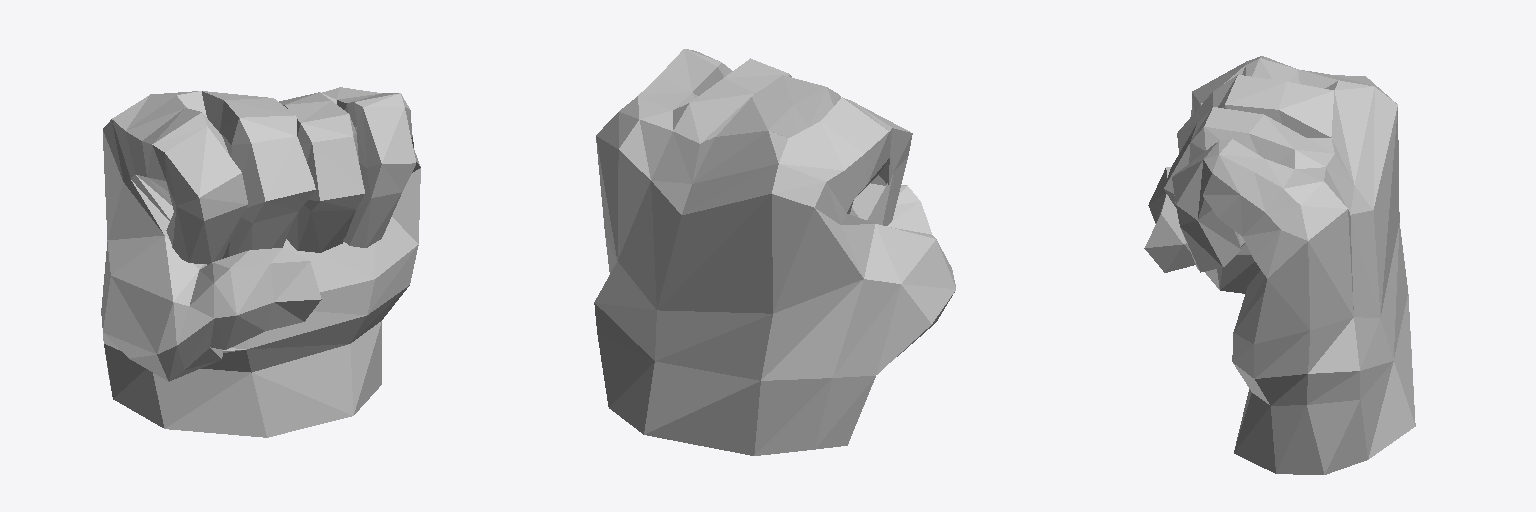
File: hulklh.obj
The picture shows the model from 3 angles: view 1: azimuth 30°, elevation 25°; view 2: azimuth 150°, elevation 25°; view 3: azimuth 270°, elevation 25°; orthographic projection.
Parts seen in each view (by area): view 1: HulkLH_HulkBody.001; view 2: HulkLH_HulkBody.001; view 3: HulkLH_HulkBody.001.
Part boxes in pixels (x1,y1,x2,y2): HulkLH_HulkBody.001: (101, 87, 420, 437); HulkLH_HulkBody.001: (594, 49, 955, 455); HulkLH_HulkBody.001: (1144, 56, 1415, 474).
Size of the model in its own units: 0.8134 by 0.8178 by 0.6026.